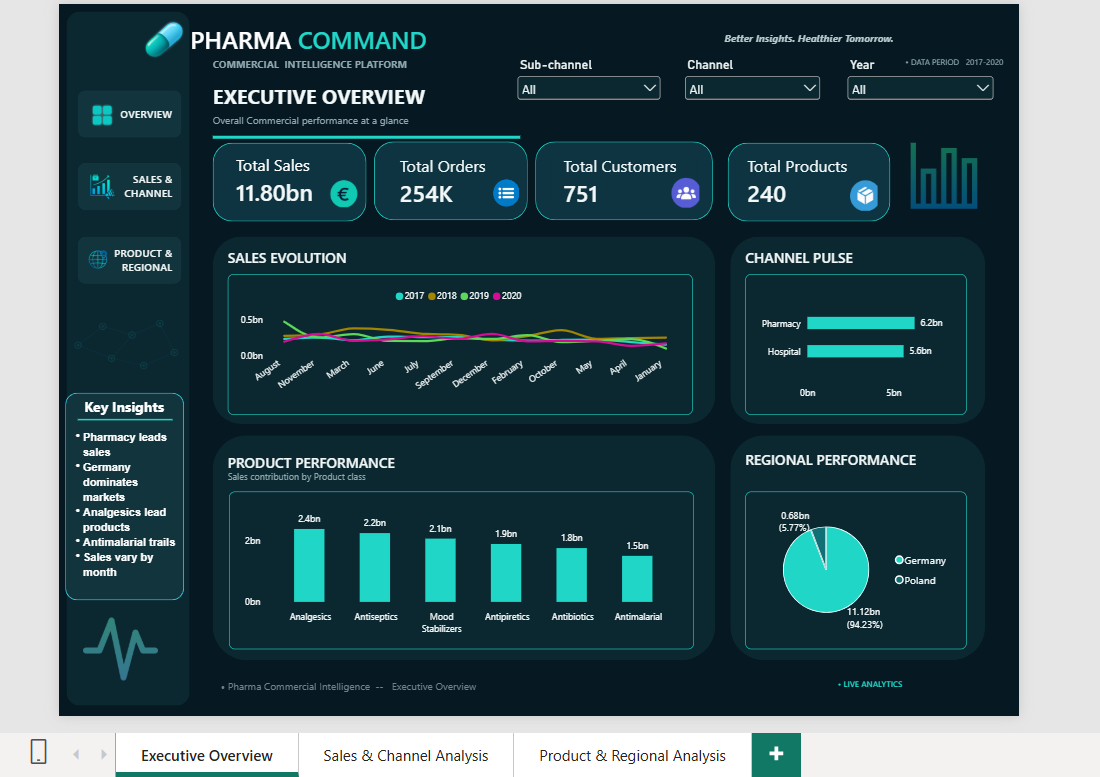

This screenshot's page, from the dashboard's own definition file:
{"tool":"powerbi","page":{"name":"Executive Overview","canvas":[1280,950],"ordinal":0},"visuals":[{"type":"shape","box":[10,10,164.3,925.7],"z":0},{"type":"textbox","box":[175,25,380,45],"z":1000},{"type":"textbox","box":[205,70,350,25],"z":2000},{"type":"textbox","box":[850,35,300,30],"z":3000},{"type":"image","box":[91.9,0,96.1,94.7],"z":4000},{"type":"textbox","box":[205,105,400,40],"z":5000},{"type":"textbox","box":[205,145,430,25],"z":6000},{"type":"shape","box":[205,185,205,105],"z":7000},{"type":"cardVisual","fields":{"Data":["pharma-data.Total Sales"]},"box":[220,198,175,75],"z":8000},{"type":"shape","box":[420,183,205,105],"z":9000},{"type":"cardVisual","fields":{"Data":["pharma-data.Total Orders"]},"box":[438,200,175,75],"z":10000},{"type":"shape","box":[635,183,236.7,105],"z":11000},{"type":"cardVisual","fields":{"Data":["pharma-data.Total Customers"]},"box":[656,200,195,75],"z":12000},{"type":"shape","box":[891,185,216.7,105],"z":13000},{"type":"cardVisual","fields":{"Data":["pharma-data.Total Products"]},"box":[902,200,195,75],"z":14000},{"type":"image","box":[574.4,225.6,38.6,51.9],"z":15000},{"type":"image","box":[352.2,233.3,55.5,37.4],"z":16000},{"type":"image","box":[806.7,230,53.8,41.2],"z":17000},{"type":"image","box":[1046.7,233.3,47.5,42.5],"z":18000},{"type":"shape","box":[205,310,670,250],"z":19000},{"type":"textbox","box":[225,325,250,30],"z":20000},{"type":"lineChart","fields":{"Category":["pharma-data.Month"],"Series":["pharma-data.Year"],"Y":["pharma-data.Total Sales"]},"box":[225,360,620,188.3],"z":21000},{"type":"shape","box":[895,310,340,250],"z":22000},{"type":"textbox","box":[915,325,250,30],"z":23000},{"type":"clusteredBarChart","fields":{"Category":["pharma-data.Channel"],"Y":["pharma-data.Total Sales"]},"box":[915,360,295,188.3],"z":24000},{"type":"shape","box":[205.7,575.7,670,300],"z":25000},{"type":"textbox","box":[225,597.5,300,32.5],"z":26000},{"type":"clusteredColumnChart","fields":{"Category":["pharma-data.Product Class"],"Y":["pharma-data.Total Sales"]},"box":[227.1,650,620,210],"z":27000},{"type":"textbox","box":[225,620,350,20],"z":28000},{"type":"shape","box":[895,575,340,300],"z":29000},{"type":"textbox","box":[915,595,280,30],"z":30000},{"type":"pieChart","fields":{"Category":["pharma-data.Country"],"Y":["pharma-data.Total Sales"]},"box":[915,650,295,210],"z":31000},{"type":"slicer","fields":{"Values":["pharma-data.Year"]},"box":[1047.1,70,204.3,75.7],"z":32000},{"type":"slicer","fields":{"Values":["pharma-data.Channel"]},"box":[830,70,190,87.5],"z":33000},{"type":"slicer","fields":{"Values":["pharma-data.Sub-channel"]},"box":[606.2,70,200,75],"z":34000},{"type":"textbox","box":[205,900,500,20],"z":35000},{"type":"textbox","box":[1030,900,180,20],"z":36000},{"type":"shape","box":[205,171.7,410,12],"z":37000},{"type":"textbox","box":[1120,70,160,30],"z":38000},{"type":"actionButton","box":[25,115,138.3,63.3],"z":39000},{"type":"actionButton","box":[25,211.7,138.3,63.3],"z":40000},{"type":"actionButton","box":[25,310,138.3,63.3],"z":41000},{"type":"image","box":[0,125,115,46.7],"z":42000},{"type":"image","box":[25,328,53,25],"z":43000},{"type":"image","box":[42,226,33,34],"z":44000},{"type":"image","box":[0,401.7,175,106.7],"z":45000},{"type":"image","box":[0,810,163.3,100],"z":46000},{"type":"image","box":[1108.3,185,143.3,88.3],"z":47000},{"type":"shape","box":[8.3,518.3,158.3,276.7],"z":48000},{"type":"textbox","box":[10,523.3,153.3,258.3],"z":49000},{"type":"shape","box":[25,498.3,126.7,111.7],"z":50000}]}

Visuals, with their boxes on the page's 1280x950 design canvas (x1, y1, x2, y2). These are canvas units, not pixel positions in the 1100x777 screenshot, which may show the page scaled, cropped or inside an application window:
shape: bbox=[10, 10, 174, 936]
textbox: bbox=[175, 25, 555, 70]
textbox: bbox=[205, 70, 555, 95]
textbox: bbox=[850, 35, 1150, 65]
image: bbox=[92, 0, 188, 95]
textbox: bbox=[205, 105, 605, 145]
textbox: bbox=[205, 145, 635, 170]
shape: bbox=[205, 185, 410, 290]
cardVisual - pharma-data.Total Sales: bbox=[220, 198, 395, 273]
shape: bbox=[420, 183, 625, 288]
cardVisual - pharma-data.Total Orders: bbox=[438, 200, 613, 275]
shape: bbox=[635, 183, 872, 288]
cardVisual - pharma-data.Total Customers: bbox=[656, 200, 851, 275]
shape: bbox=[891, 185, 1108, 290]
cardVisual - pharma-data.Total Products: bbox=[902, 200, 1097, 275]
image: bbox=[574, 226, 613, 278]
image: bbox=[352, 233, 408, 271]
image: bbox=[807, 230, 860, 271]
image: bbox=[1047, 233, 1094, 276]
shape: bbox=[205, 310, 875, 560]
textbox: bbox=[225, 325, 475, 355]
lineChart - pharma-data.Month x pharma-data.Year: bbox=[225, 360, 845, 548]
shape: bbox=[895, 310, 1235, 560]
textbox: bbox=[915, 325, 1165, 355]
clusteredBarChart - pharma-data.Channel x pharma-data.Total Sales: bbox=[915, 360, 1210, 548]
shape: bbox=[206, 576, 876, 876]
textbox: bbox=[225, 598, 525, 630]
clusteredColumnChart - pharma-data.Product Class x pharma-data.Total Sales: bbox=[227, 650, 847, 860]
textbox: bbox=[225, 620, 575, 640]
shape: bbox=[895, 575, 1235, 875]
textbox: bbox=[915, 595, 1195, 625]
pieChart - pharma-data.Country x pharma-data.Total Sales: bbox=[915, 650, 1210, 860]
slicer - pharma-data.Year: bbox=[1047, 70, 1251, 146]
slicer - pharma-data.Channel: bbox=[830, 70, 1020, 158]
slicer - pharma-data.Sub-channel: bbox=[606, 70, 806, 145]
textbox: bbox=[205, 900, 705, 920]
textbox: bbox=[1030, 900, 1210, 920]
shape: bbox=[205, 172, 615, 184]
textbox: bbox=[1120, 70, 1280, 100]
actionButton: bbox=[25, 115, 163, 178]
actionButton: bbox=[25, 212, 163, 275]
actionButton: bbox=[25, 310, 163, 373]
image: bbox=[0, 125, 115, 172]
image: bbox=[25, 328, 78, 353]
image: bbox=[42, 226, 75, 260]
image: bbox=[0, 402, 175, 508]
image: bbox=[0, 810, 163, 910]
image: bbox=[1108, 185, 1252, 273]
shape: bbox=[8, 518, 167, 795]
textbox: bbox=[10, 523, 163, 782]
shape: bbox=[25, 498, 152, 610]
